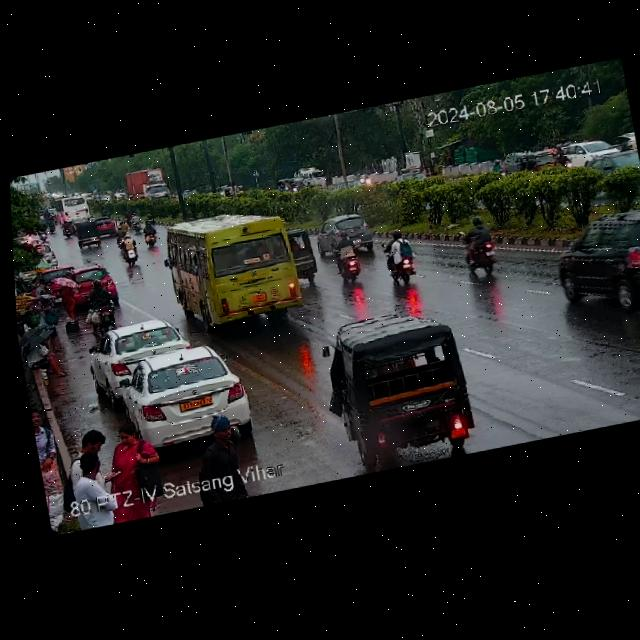bus: (165, 195, 323, 337), (121, 165, 174, 210), (53, 191, 89, 228), (293, 163, 333, 193)
car: (324, 301, 492, 477), (107, 340, 251, 455), (546, 210, 640, 310), (89, 312, 194, 385), (550, 130, 628, 165), (316, 210, 374, 257), (69, 261, 120, 303), (284, 224, 320, 280), (583, 150, 640, 178), (391, 160, 445, 186), (516, 145, 559, 175), (24, 240, 60, 272), (73, 218, 105, 250), (35, 266, 68, 289), (37, 298, 59, 331), (95, 216, 118, 238)
motorcycle: (452, 217, 506, 282), (377, 228, 423, 287), (329, 225, 362, 285), (119, 212, 164, 254), (86, 277, 116, 327), (60, 218, 74, 241)
person: (77, 425, 156, 528), (193, 416, 246, 506), (17, 330, 69, 385), (489, 156, 509, 179)
